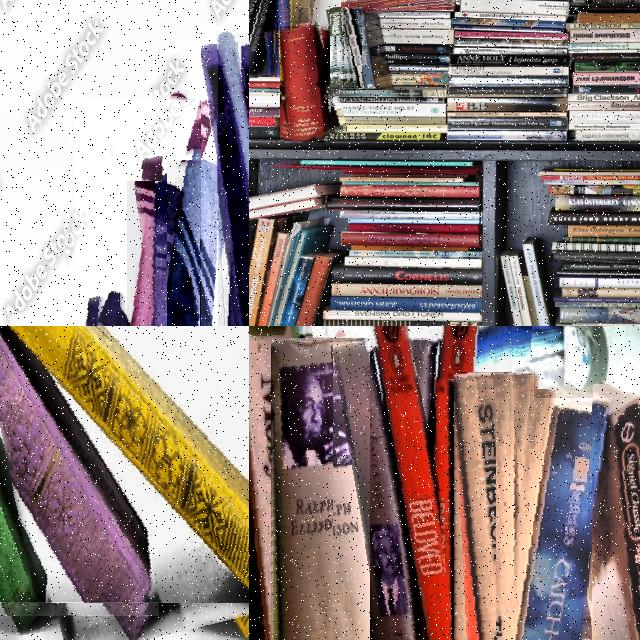Books: (9, 326, 249, 584), (333, 342, 431, 640), (374, 326, 465, 640), (272, 339, 361, 640), (522, 399, 621, 640), (455, 373, 534, 640), (249, 326, 312, 640), (134, 101, 220, 326), (202, 45, 249, 326), (593, 384, 640, 640), (168, 161, 222, 326), (154, 182, 200, 326), (281, 27, 332, 142), (218, 33, 249, 175), (331, 266, 481, 284), (278, 0, 310, 77), (249, 0, 280, 76), (329, 297, 481, 312), (340, 232, 481, 248), (331, 283, 481, 298), (325, 197, 479, 210), (324, 310, 481, 322), (446, 97, 568, 112), (327, 103, 446, 118), (459, 0, 570, 16), (352, 9, 374, 89), (449, 54, 570, 67), (344, 257, 481, 268), (348, 223, 479, 234), (448, 117, 568, 129), (342, 0, 444, 14), (344, 9, 362, 88), (339, 209, 481, 219), (249, 0, 268, 71), (348, 249, 481, 259), (450, 76, 570, 87), (331, 8, 347, 89), (448, 66, 570, 76), (446, 130, 568, 140), (329, 88, 448, 98), (451, 18, 566, 28), (456, 30, 568, 40), (455, 12, 566, 22), (572, 70, 640, 86), (448, 87, 568, 96), (329, 124, 448, 133), (382, 29, 453, 44), (453, 39, 568, 48), (453, 47, 568, 56), (570, 29, 640, 43), (324, 132, 446, 140), (453, 26, 564, 34), (570, 111, 640, 123), (391, 73, 449, 87), (330, 117, 446, 124), (372, 44, 453, 54), (380, 18, 451, 29), (573, 129, 640, 140), (325, 97, 446, 103), (448, 112, 568, 118), (572, 53, 640, 63), (573, 62, 640, 72), (384, 54, 449, 64), (577, 13, 640, 23), (572, 85, 640, 94), (389, 64, 448, 74), (568, 102, 640, 110), (371, 12, 451, 19), (566, 22, 640, 29), (568, 123, 640, 130), (568, 95, 640, 102), (568, 43, 640, 50), (249, 76, 286, 89), (342, 0, 460, 4), (249, 95, 284, 108), (249, 106, 282, 118), (249, 116, 280, 127), (249, 76, 286, 83), (249, 88, 286, 95)
